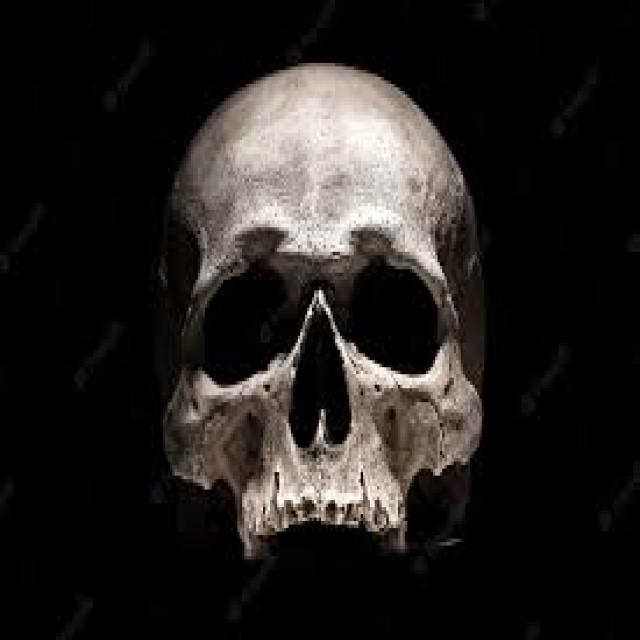skull: (157, 52, 492, 570)
